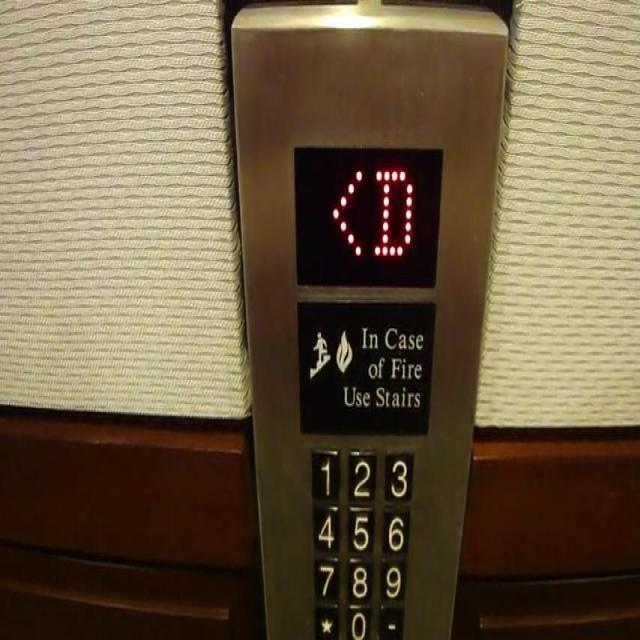-: (376, 604, 406, 639)
0: (343, 601, 375, 639)
1: (308, 447, 341, 504)
2: (345, 448, 377, 505)
3: (380, 448, 415, 505)
4: (311, 502, 342, 558)
5: (342, 504, 378, 563)
6: (380, 507, 411, 561)
7: (311, 557, 339, 608)
8: (344, 556, 376, 604)
9: (378, 560, 408, 605)
led: (289, 139, 445, 289)
s: (312, 600, 342, 639)
